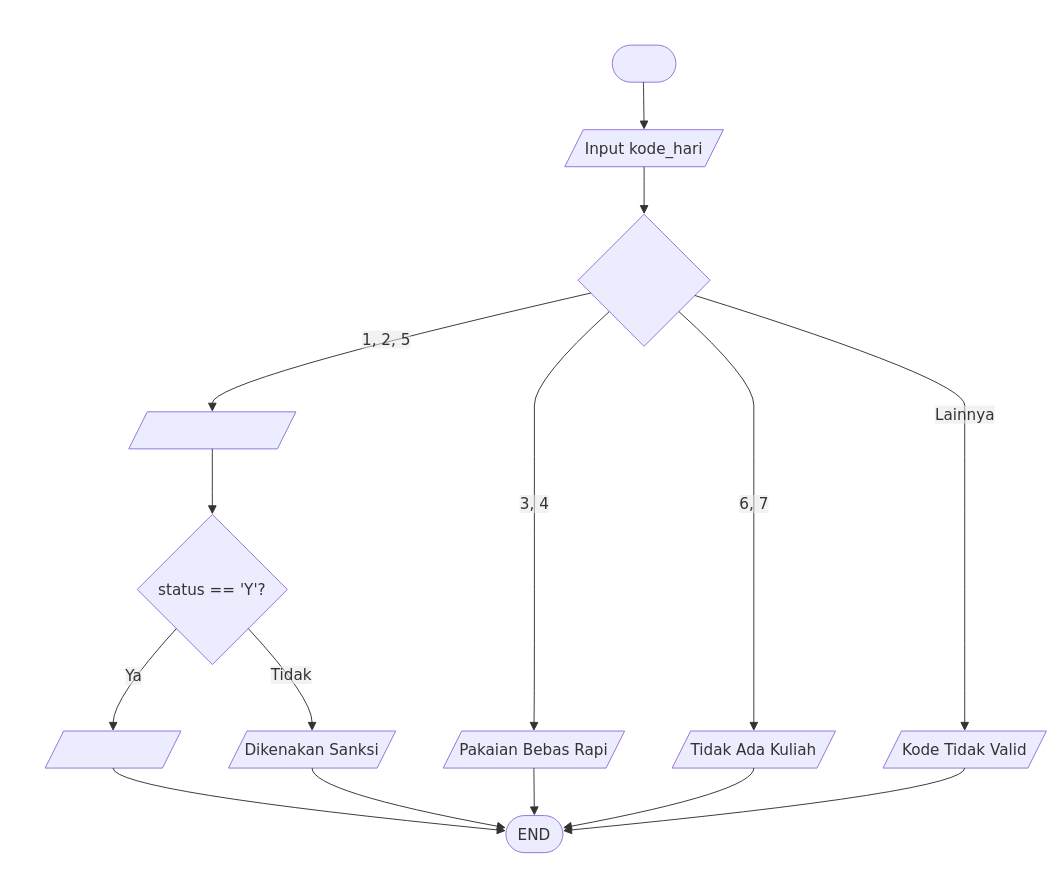
This 1063x869 diagram has some shape labels left out. Each missing label, with the box of its shape:
Boleh Kuliah: (44, 730, 181, 768)
Input status 'Y/T': (128, 411, 296, 449)
kode_hari?: (577, 213, 710, 346)
START: (611, 44, 676, 82)
